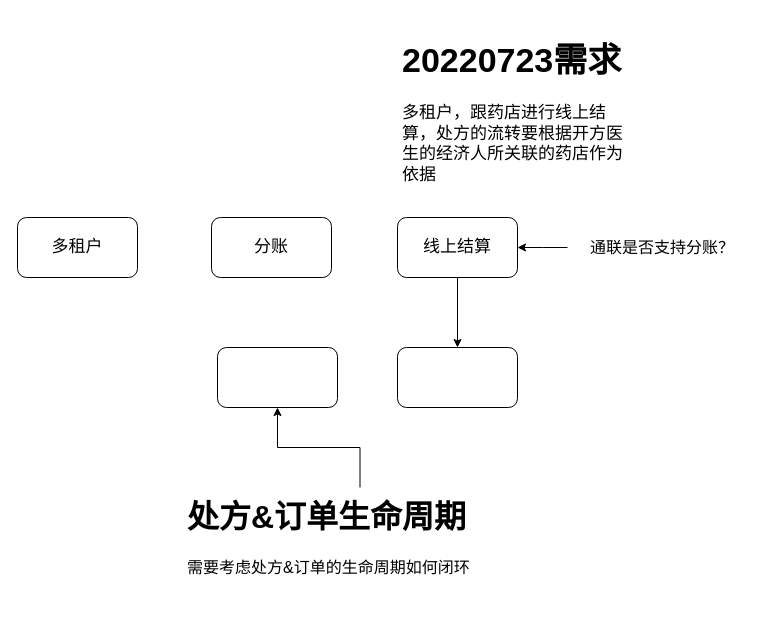
Image size: 775x624. Some labels were removed from this diagram. Each missing label, with the centre of its shape:
"代理商区域药店" belongs at pixel 457 377.
"对接第三方系统 推送处方" belongs at pixel 277 377.
